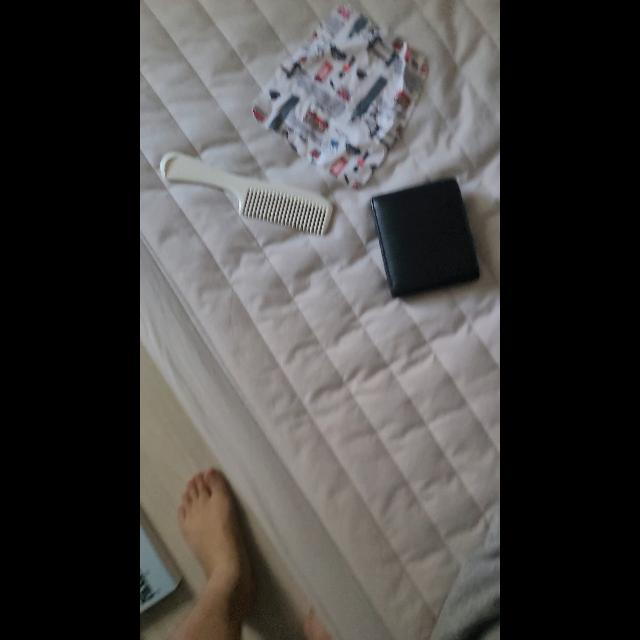COMB: (160, 152, 332, 236)
Glasses cleaning cloth: (252, 2, 430, 190)
WALLET: (370, 178, 480, 298)
